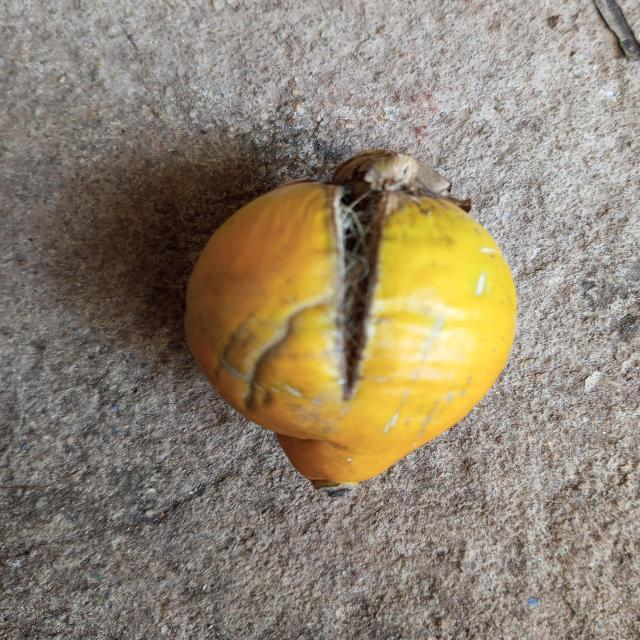damaged: (185, 150, 516, 495)
